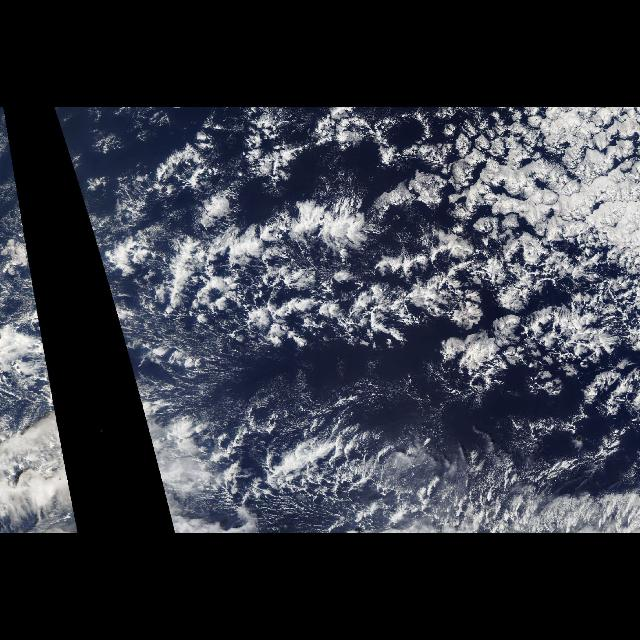Fish: (142, 200, 358, 316)
Flower: (404, 111, 640, 376)
Gravel: (224, 396, 616, 516)
